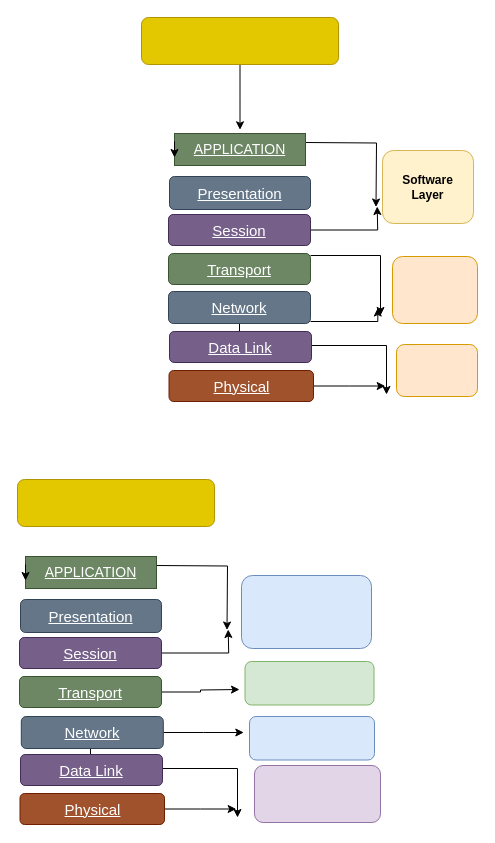
Image size: 495x843. Some labels were removed from this diagram. Here are the shapes that lost their labels. From the top down, the centre of each, then its label:
At (239,40): "OSI MODEL".
At (435,290): "Middle Layer".
At (437,370): "Hardware Layer".
At (115,502): "TCP/IP MODEL".
At (306,611): "Application Layer".
At (309,682): "Transport Layer".
At (311,738): "Internet layer".
At (317,793): "Network Access Layer".
